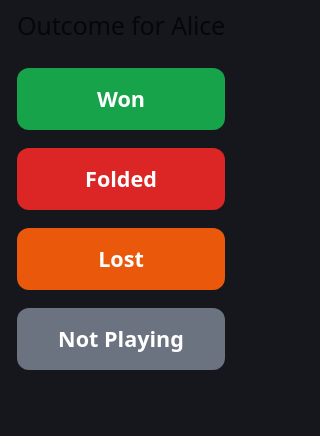
Test: OutcomeButtons › street selection › shows street buttons (Pre-Flop, Flop, Turn, River) after selecting an outcome
Click the button "Won".
click(121, 99)  # box [17, 68, 225, 130]
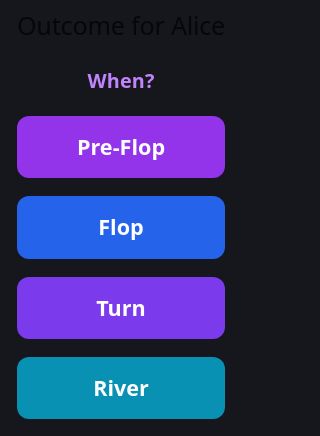
Expected: the button "Pre-Flop" is shown, [17, 116, 225, 178]
Expected: the button "Flop" is shown, [17, 196, 225, 258]
Expected: the button "Turn" is shown, [17, 276, 225, 339]
